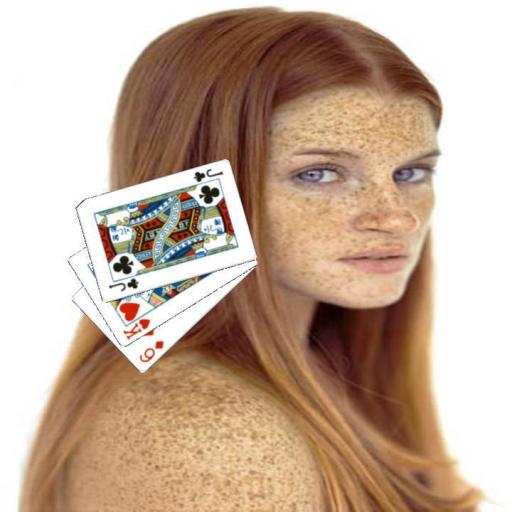card-corner: (120, 316, 152, 341), (136, 338, 165, 364), (106, 275, 140, 293), (190, 166, 224, 184)
